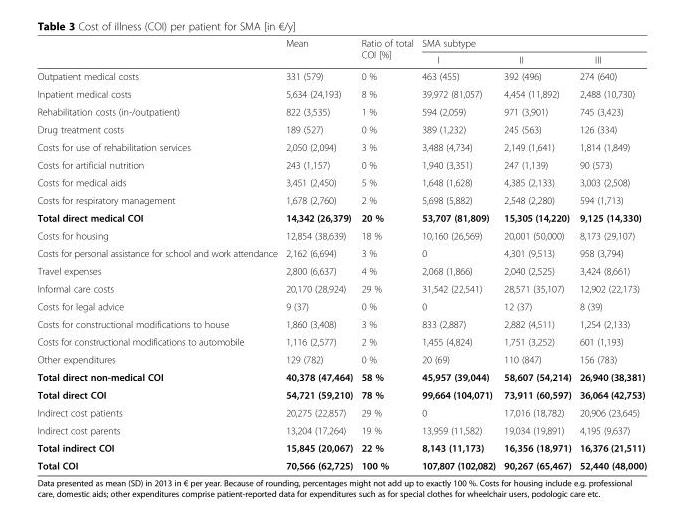table: (36, 37, 646, 471)
table column: (36, 37, 281, 471), (417, 37, 499, 471), (281, 37, 356, 471), (499, 37, 574, 471), (574, 37, 646, 471), (356, 37, 417, 471)
table column header: (36, 37, 646, 67)
table row: (36, 84, 646, 102), (36, 102, 646, 120), (36, 137, 646, 155), (36, 155, 646, 173), (36, 173, 646, 191), (36, 208, 646, 226), (36, 226, 646, 244), (36, 261, 646, 279), (36, 279, 646, 297), (36, 314, 646, 332), (36, 332, 646, 350), (36, 367, 646, 385), (36, 385, 646, 403), (36, 403, 646, 421), (36, 438, 646, 456), (36, 67, 646, 84), (36, 120, 646, 137), (36, 191, 646, 208), (36, 244, 646, 261), (36, 297, 646, 314), (36, 350, 646, 367), (36, 421, 646, 438), (36, 51, 646, 67), (36, 456, 646, 471), (36, 37, 646, 51)
table spanning cell: (417, 37, 646, 51), (281, 37, 356, 67), (356, 37, 417, 67)
